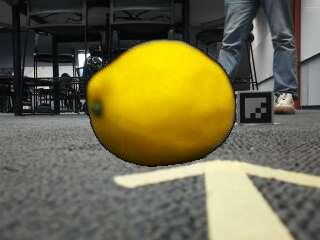lemon: (87, 39, 233, 165)
